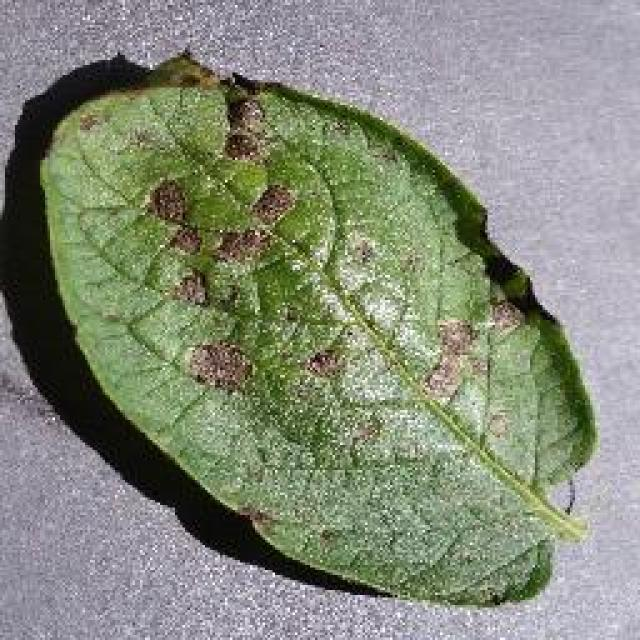early_blight: (30, 50, 600, 610)
